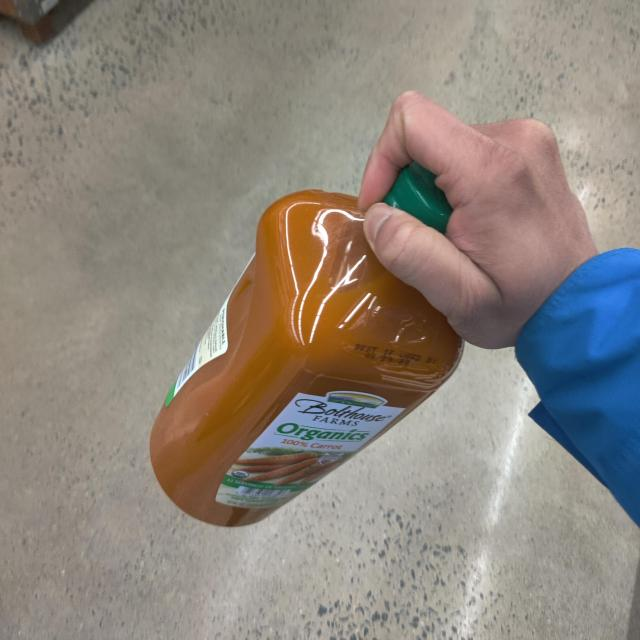Juice: (144, 152, 478, 552)
